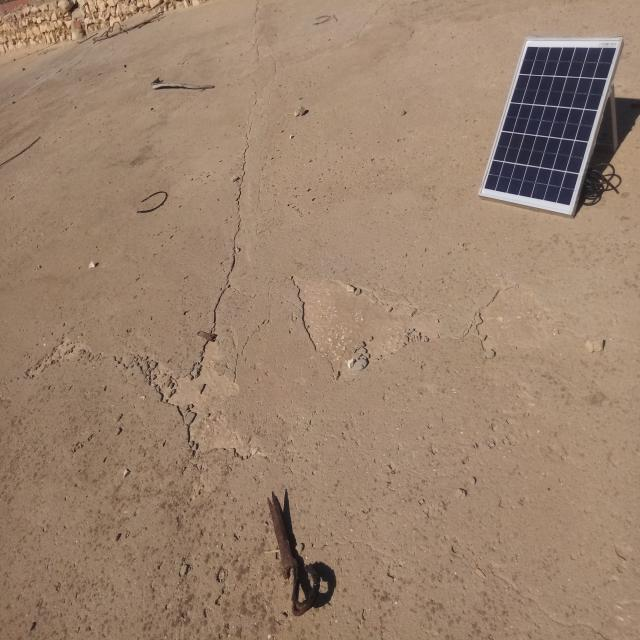Normal Solar Panel: (479, 38, 623, 215)
